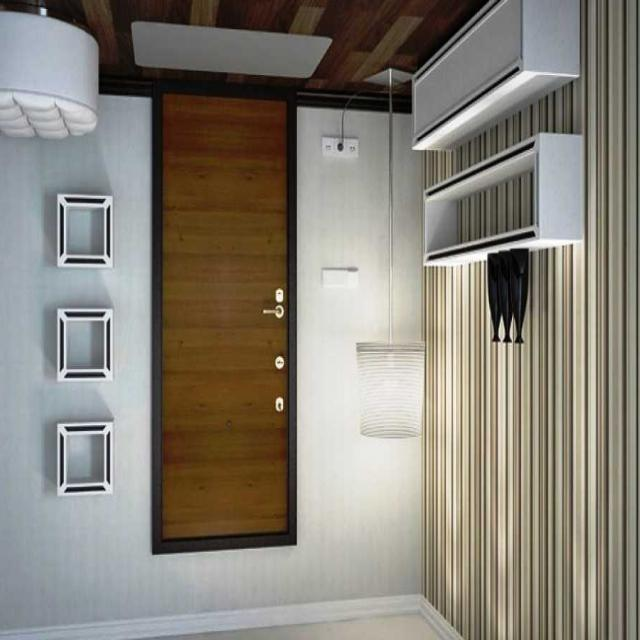close: (148, 102, 294, 540)
